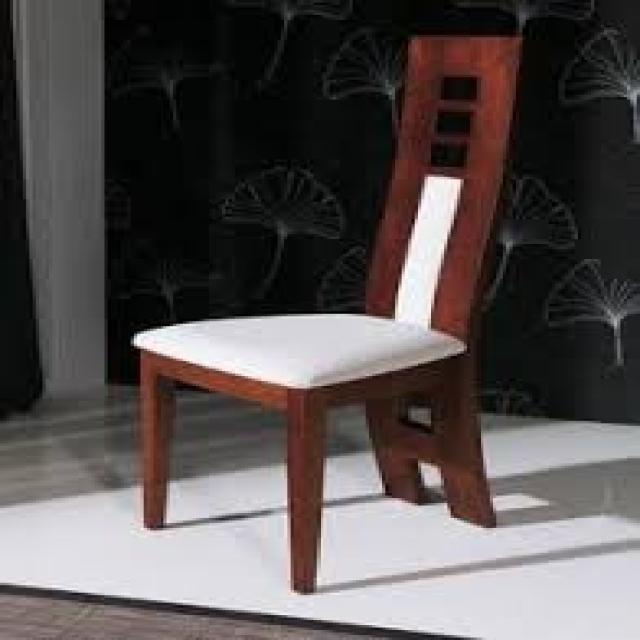bottle: (134, 27, 516, 600)
